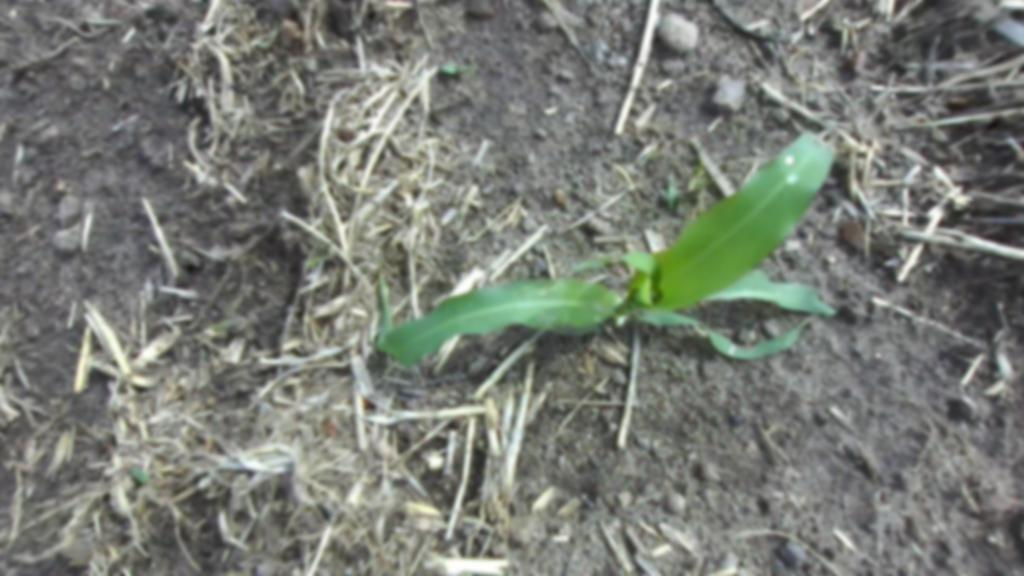BroWeed: (687, 158, 718, 202), (195, 316, 238, 345), (665, 167, 681, 210), (307, 251, 339, 271), (127, 463, 153, 486), (440, 62, 474, 74), (198, 345, 209, 359)
Maize: (352, 125, 884, 461)
